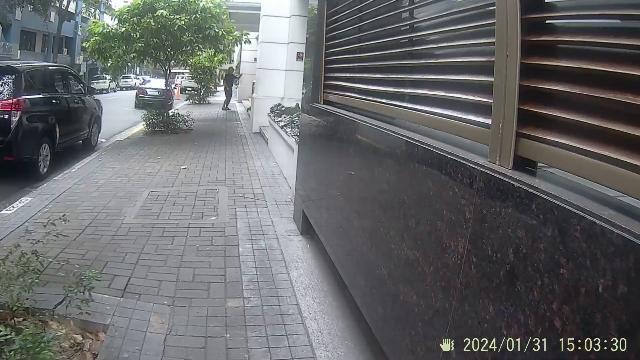tree: (155, 56, 175, 136)
